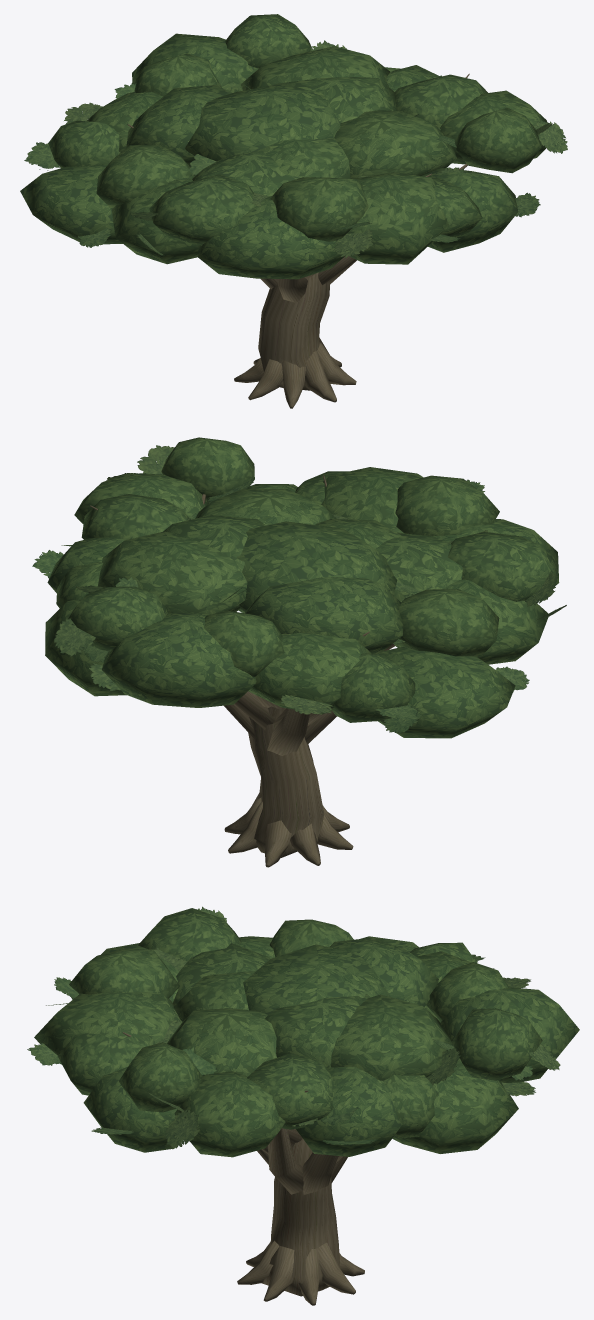
The model's file is tree_old.glb.
The picture shows the model from 3 angles, top to bottom: view 1: azimuth 30°, elevation 25°; view 2: azimuth 150°, elevation 25°; view 3: azimuth 270°, elevation 25°; orthographic projection. The views are drawn at different scales.
Visible parts, largest first — view 1: tree_old; view 2: tree_old; view 3: tree_old.
Boxes of the visible parts, left/top/right/bottom form: tree_old: left=20, top=14, right=567, bottom=408; tree_old: left=32, top=437, right=566, bottom=867; tree_old: left=27, top=906, right=579, bottom=1305.
Bounding box in the file's own units: 11.89 × 7.13 × 12.
Materials: 9 (9 with a texture image).
